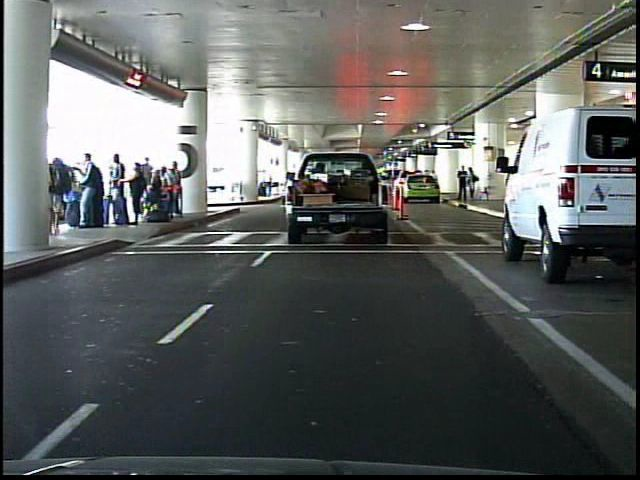person: (467, 165, 480, 203), (456, 165, 468, 203)
